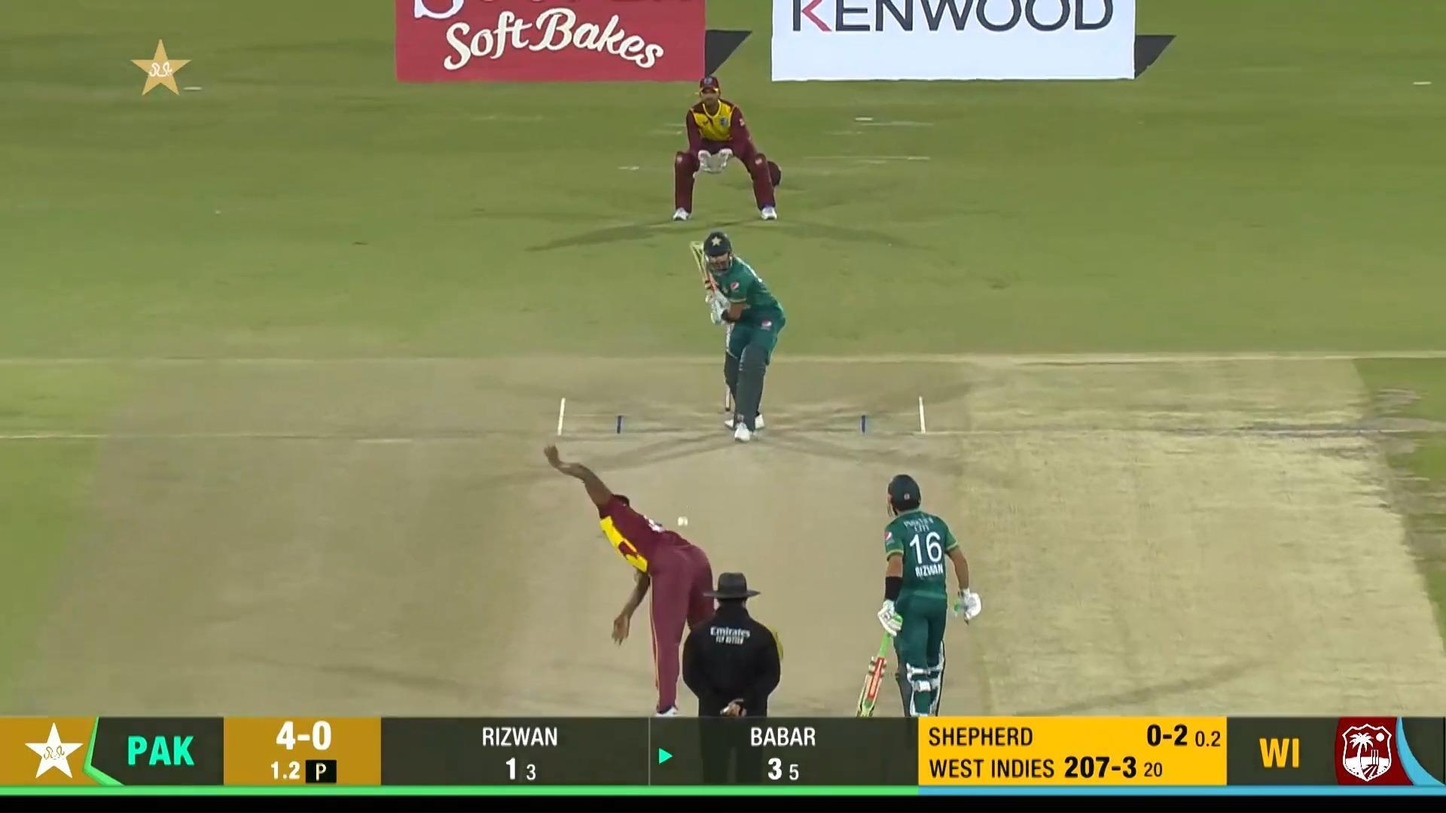BM 1: (689, 232, 787, 442)
BO: (541, 442, 715, 716)
